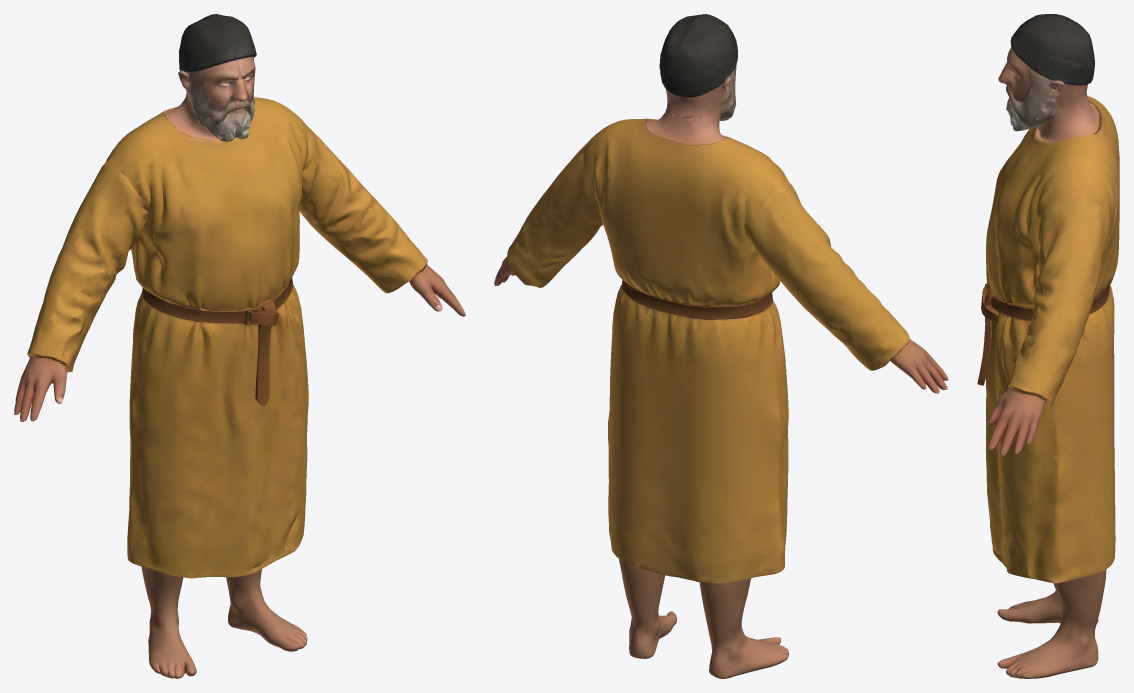
Rendered from israelite_kippa_4.glb.
3 views of the same model, side by side, from view 1: azimuth 30°, elevation 25°; view 2: azimuth 150°, elevation 25°; view 3: azimuth 270°, elevation 25° (orthographic).
Parts seen in each view (by area): view 1: Mesh; view 2: Mesh; view 3: Mesh.
Boxes of the visible parts, left/top/right/bottom form: Mesh: left=14, top=14, right=465, bottom=678; Mesh: left=494, top=14, right=948, bottom=678; Mesh: left=977, top=14, right=1119, bottom=678.
Size of the model in its own units: 1.39 by 1.9 by 0.3881.
1 material, 1 textured.
